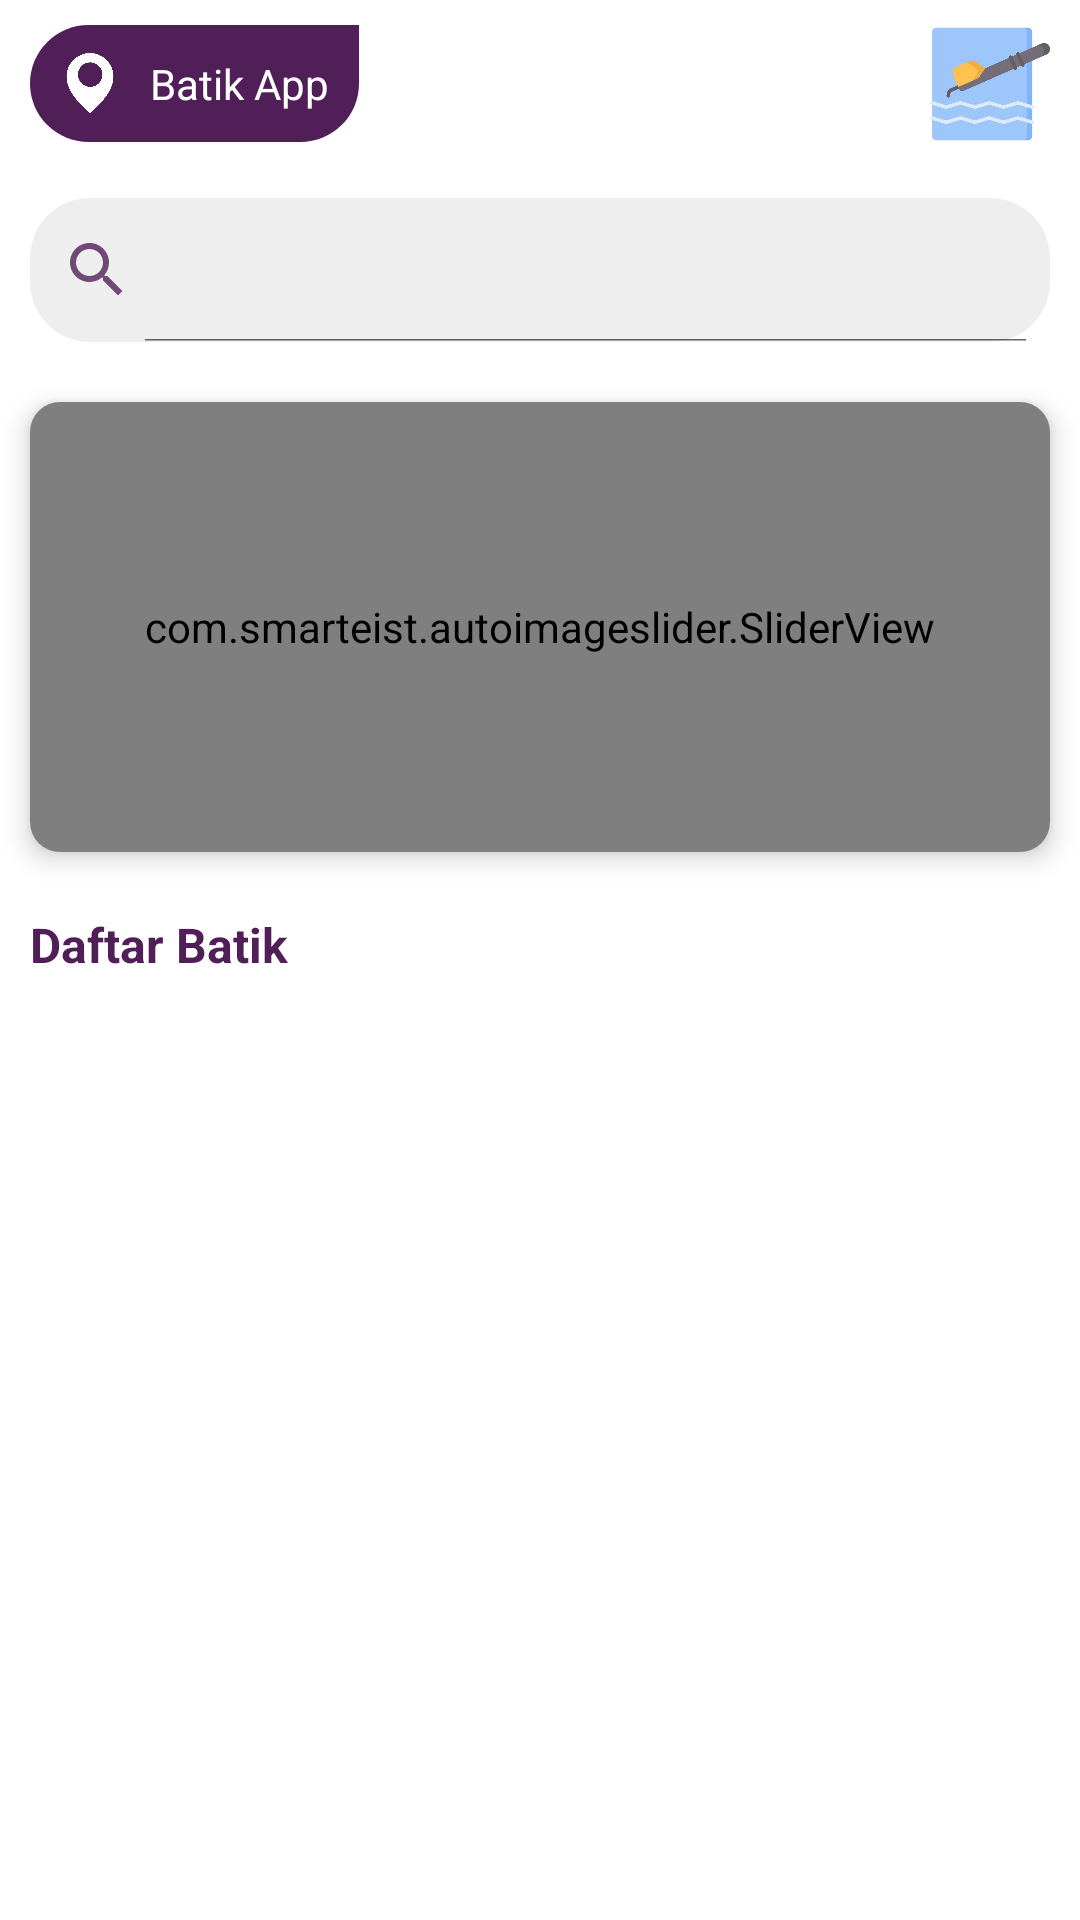

Where icons sit on this 1080 × 1920 app screen, as (x1, y1, x2, y2):
batik: (930, 27, 1050, 141)
pin location: (66, 53, 114, 113)
